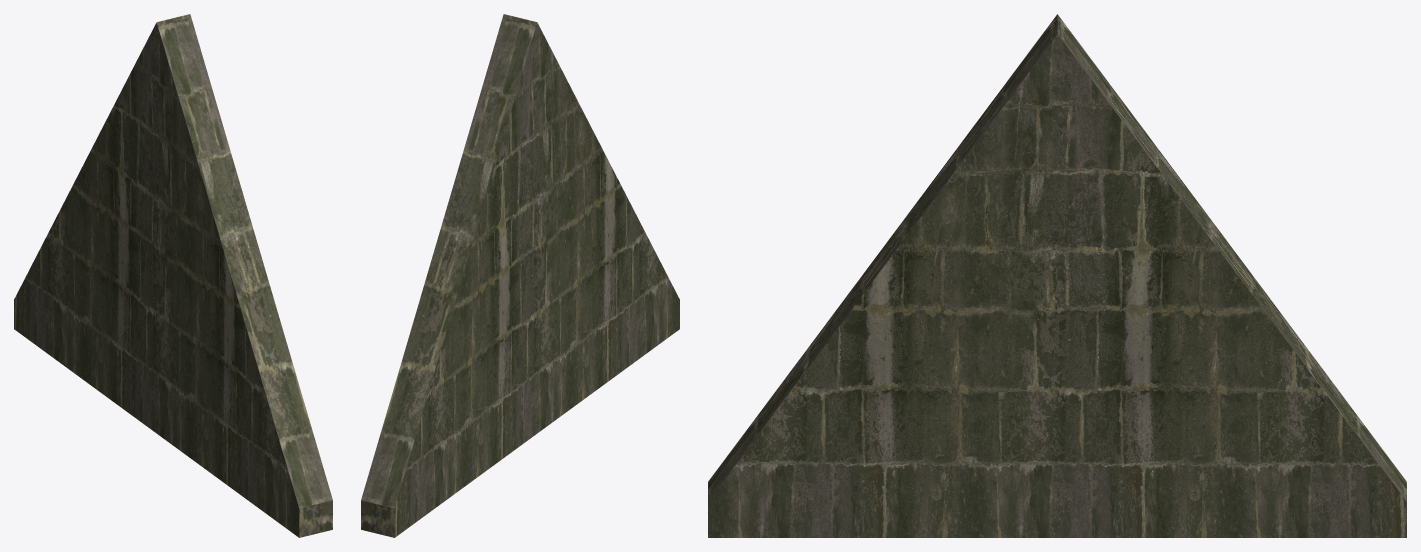
Rendered from Gable_Sloped.fbx.
The picture shows the model from 3 angles, left to right: view 1: azimuth 30°, elevation 25°; view 2: azimuth 150°, elevation 25°; view 3: azimuth 270°, elevation 25°; orthographic projection. The views are drawn at different scales.
Visible parts, largest first — view 1: Gable_Sloped; view 2: Gable_Sloped; view 3: Gable_Sloped.
Part boxes in pixels (x1,y1,x2,y2): Gable_Sloped: [14, 14, 332, 537]; Gable_Sloped: [361, 14, 679, 537]; Gable_Sloped: [708, 14, 1406, 537].
Size of the model in its own units: 51 by 595 by 748.
